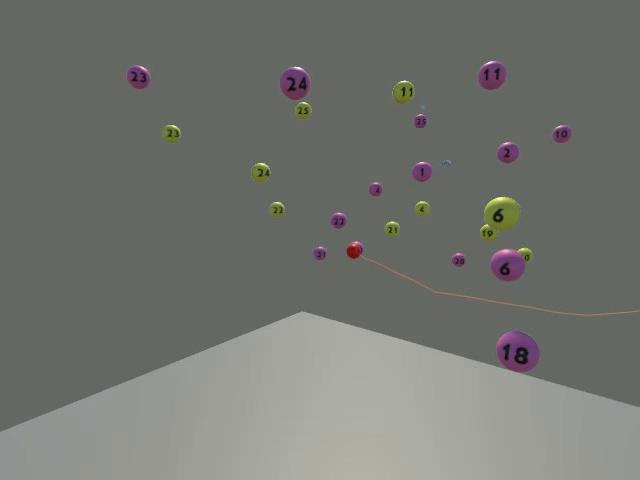ball_01_pink: (411, 161, 431, 181)
ball_02_pink: (496, 141, 518, 162)
ball_04_pink: (368, 183, 383, 195)
ball_04_yellow: (414, 201, 430, 217)
ball_06_pink: (490, 249, 524, 281)
ball_06_yellow: (483, 196, 520, 230)
ball_10_pink: (552, 125, 571, 143)
ball_11_pink: (477, 60, 506, 90)
ball_11_yellow: (393, 80, 414, 104)
ball_18_pink: (496, 330, 539, 372)
ball_19_yellow: (479, 223, 497, 240)
ball_20_pink: (450, 253, 466, 267)
ball_21_pink: (312, 245, 327, 261)
ball_21_yellow: (384, 221, 400, 237)
ball_22_pink: (329, 212, 347, 229)
ball_22_yellow: (269, 202, 284, 217)
ball_23_pink: (126, 65, 151, 90)
ball_23_yellow: (162, 124, 180, 142)
ball_24_pink: (279, 66, 310, 100)
ball_24_yellow: (250, 162, 270, 182)
ball_25_pink: (414, 114, 429, 129)
ball_25_yellow: (294, 101, 311, 119)
ball_unknown: (517, 247, 533, 262)
user_cursor: (346, 244, 360, 258)
